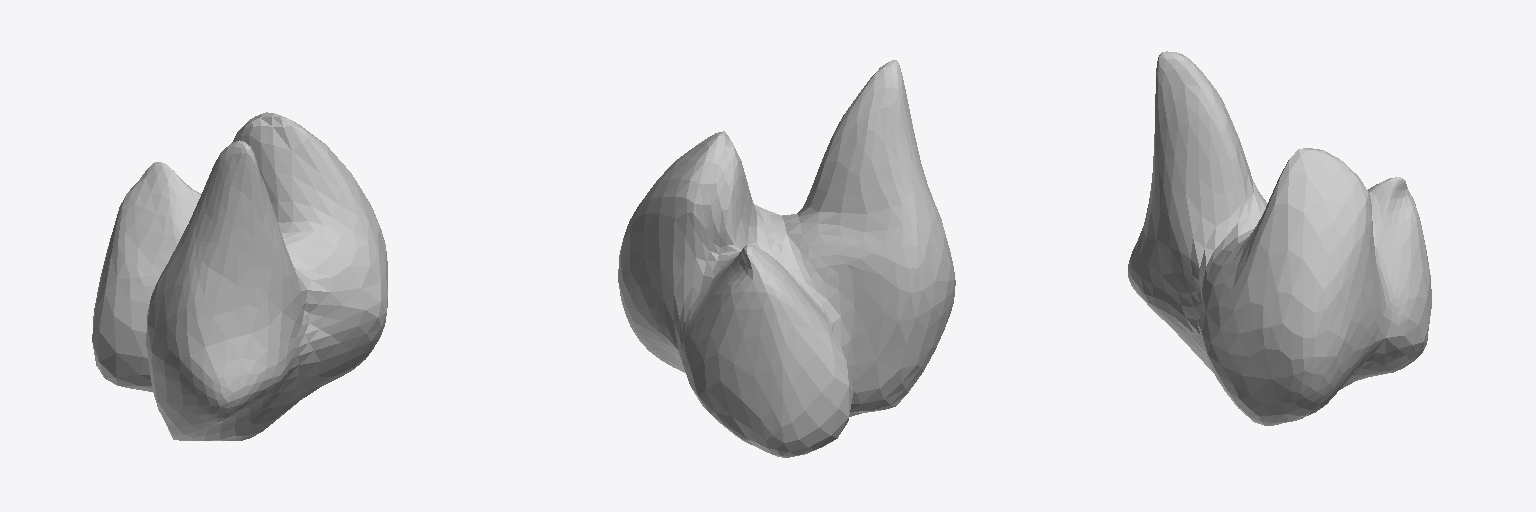
Rendered from Rock07.obj.
3 views of the same model, side by side, from view 1: azimuth 30°, elevation 25°; view 2: azimuth 150°, elevation 25°; view 3: azimuth 270°, elevation 25° (orthographic).
Visible parts, largest first — view 1: Rock02; view 2: Rock02; view 3: Rock02.
Part boxes in pixels (left/top/right/bottom): Rock02: left=92, top=112, right=387, bottom=440; Rock02: left=618, top=60, right=955, bottom=457; Rock02: left=1128, top=51, right=1431, bottom=425.
Size of the model in its own units: 39.55 by 47.82 by 38.71.